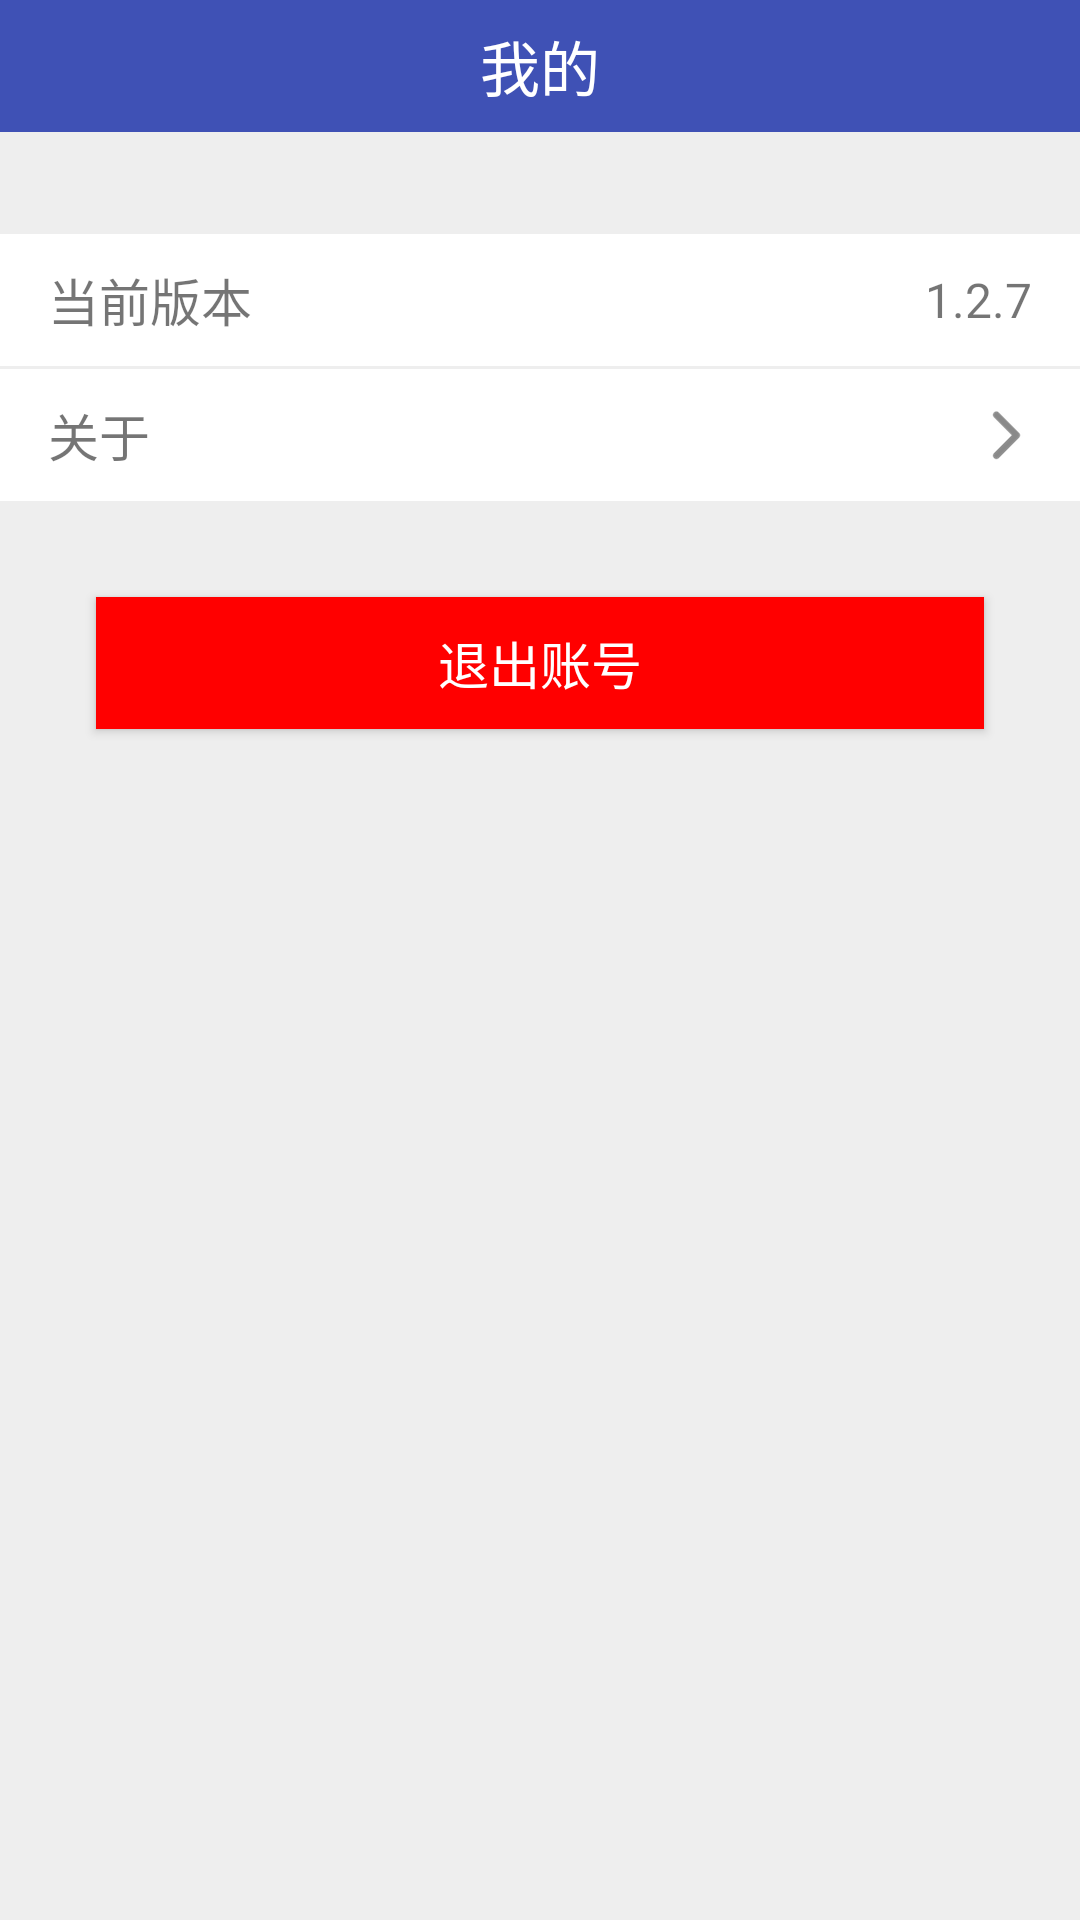

Where to tap for icons on this 1080x1920 app screen, as point (x, y):
right: point (1006, 435)
